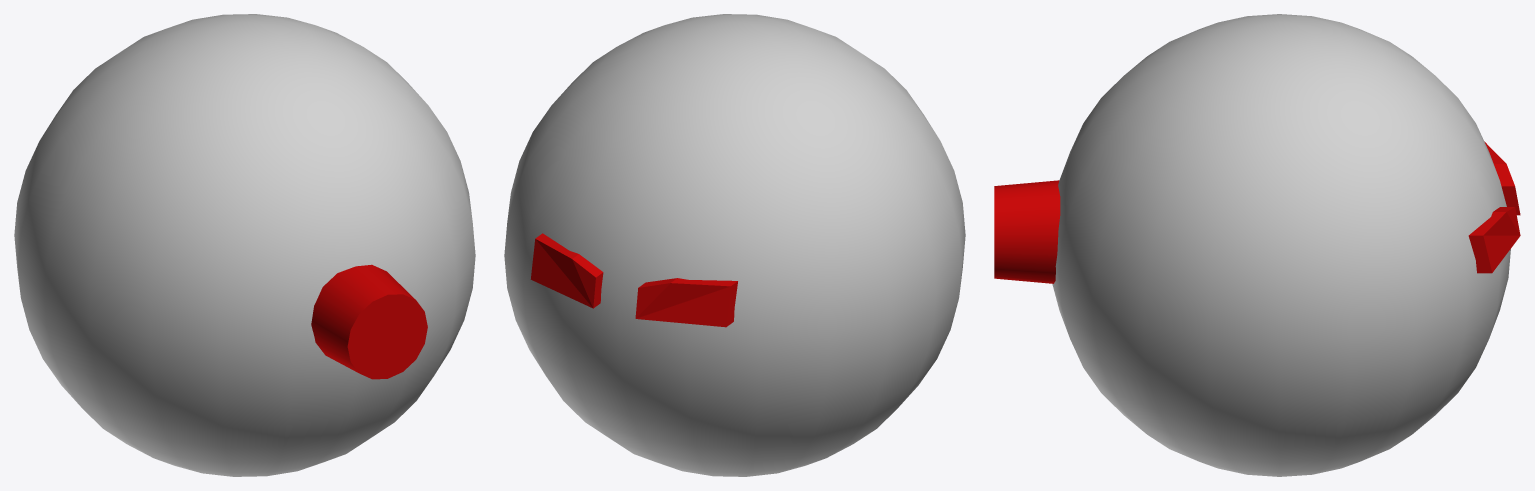
Rendered from enemy_wing_body.obj.
3 renders of one model, left to right at view 1: azimuth 30°, elevation 25°; view 2: azimuth 150°, elevation 25°; view 3: azimuth 270°, elevation 25°, orthographic.
Visible parts, largest first — view 1: body, parts; view 2: body, eye; view 3: body, parts, eye.
Boxes of the visible parts, x1,y1,x2,y2 form: body: (14,14,475,476); parts: (311,264,427,379); body: (504,14,965,476); eye: (530,233,737,327); body: (1052,14,1510,476); parts: (994,180,1060,283); eye: (1468,141,1520,273).
Size of the model in its own units: 0.64 by 0.64 by 0.7268.
